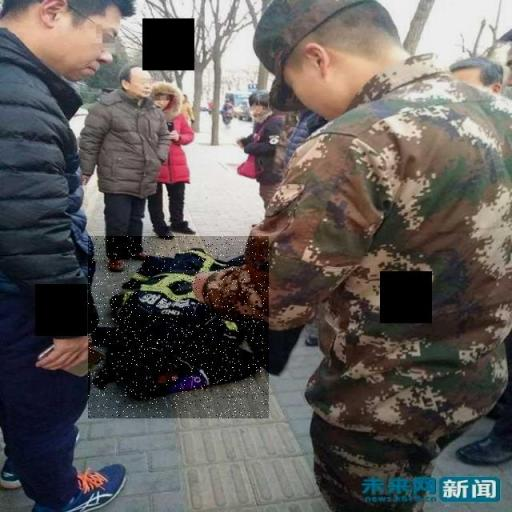Fall: (88, 236, 269, 418)
